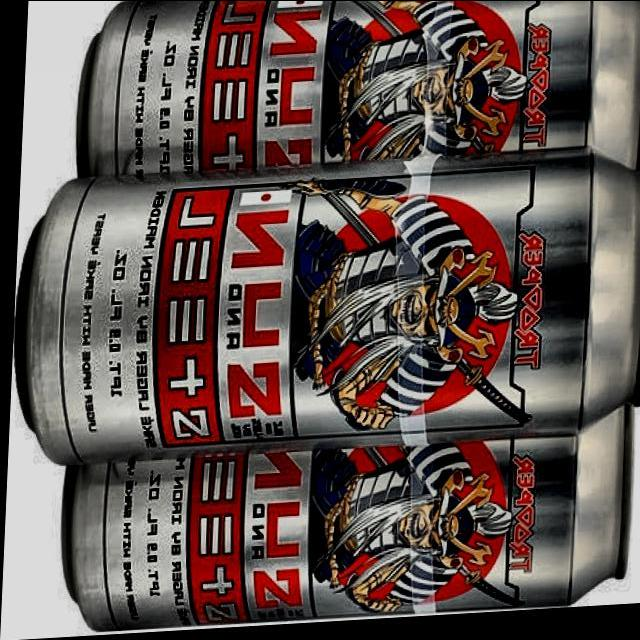litter: (6, 144, 640, 469), (52, 392, 638, 638), (65, 0, 640, 209)
